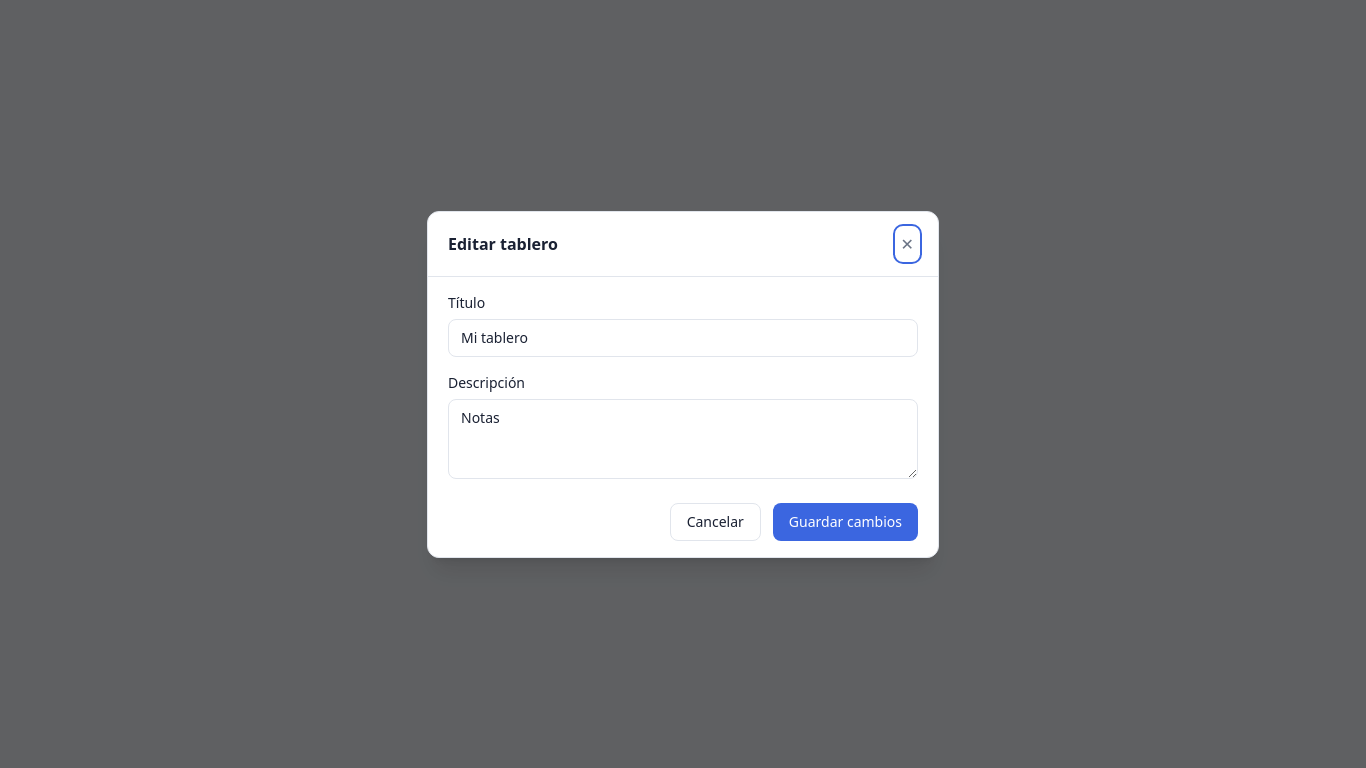
Scenario: EditBoardModal › si el servidor falla, muestra el error y no cierra
Type "!" into the field labelled "Título" at (683, 338), box [448,318,918,356]
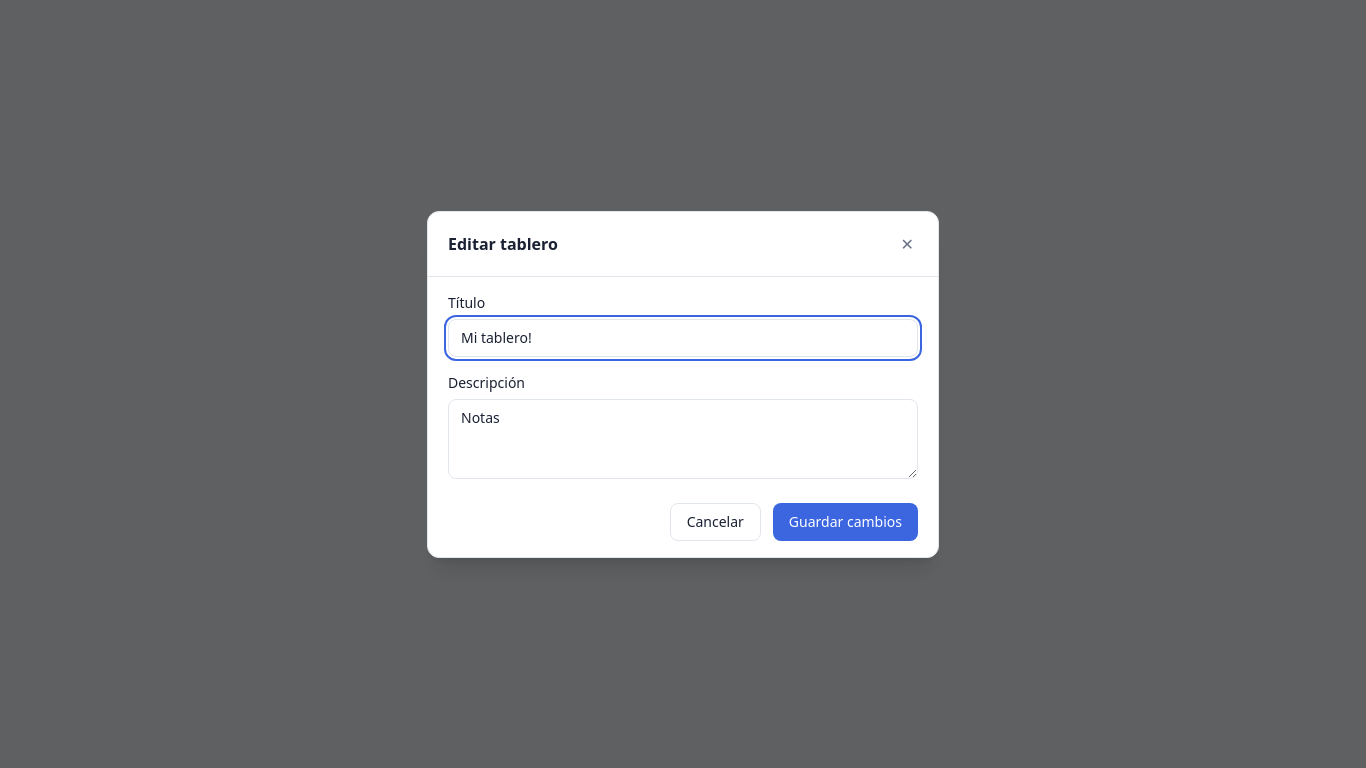
Click the button "Guardar cambios" at (845, 522), box [773,502,918,540]
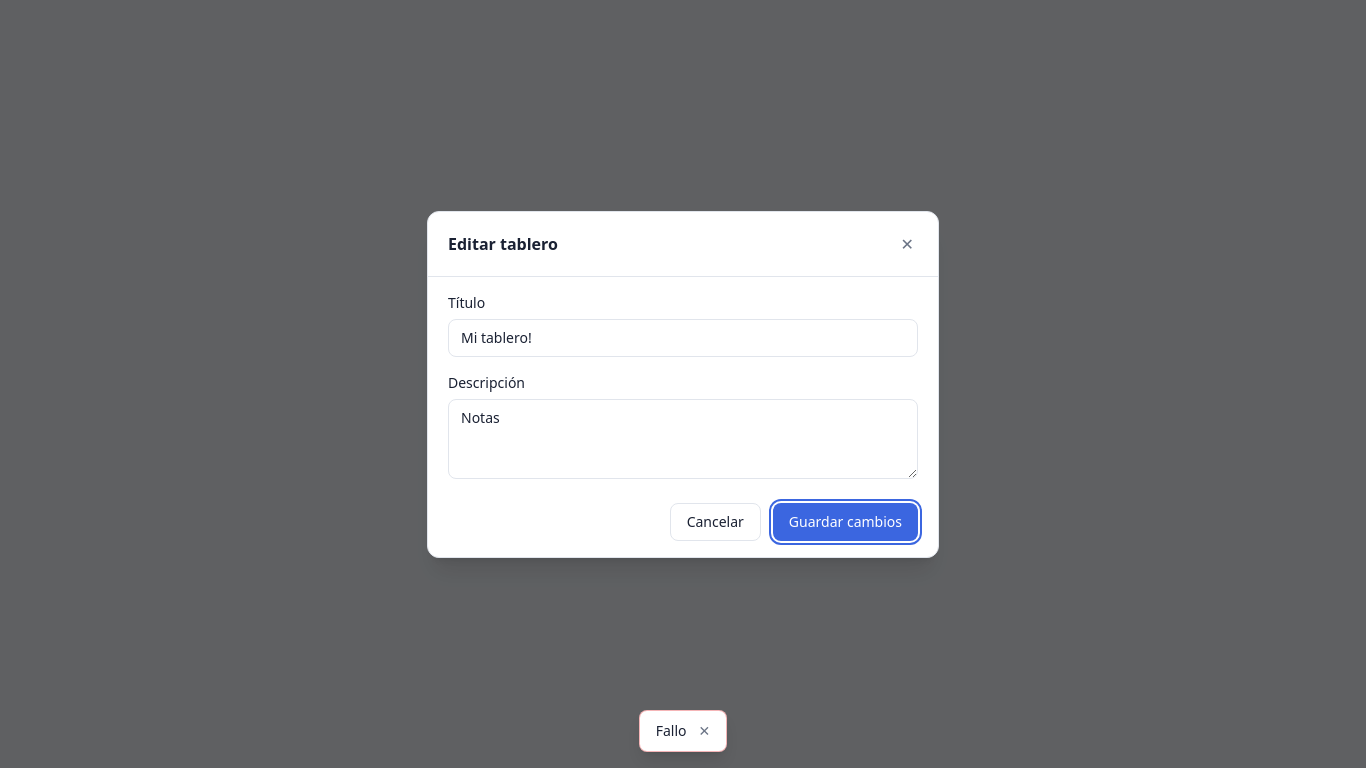
Expected: the text "Fallo" is shown, [656,721,686,741]
